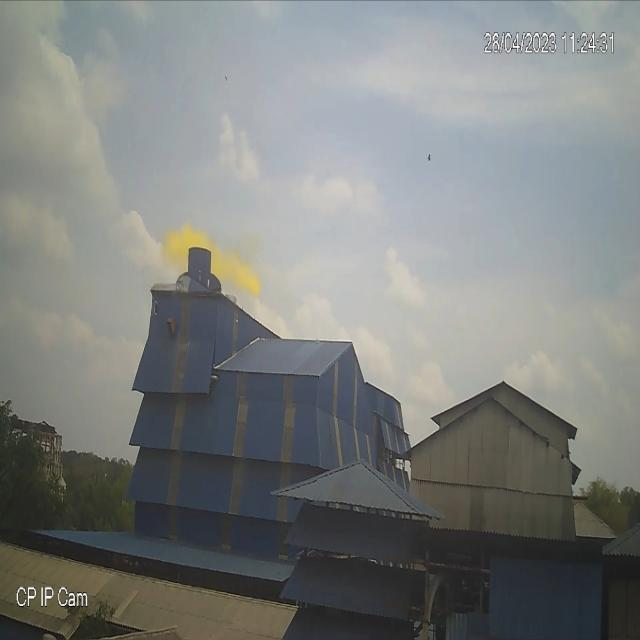yellow smoke: (160, 219, 262, 299)
